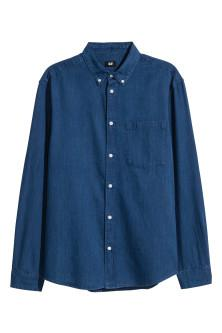teeshirt: (7, 41, 215, 293)
